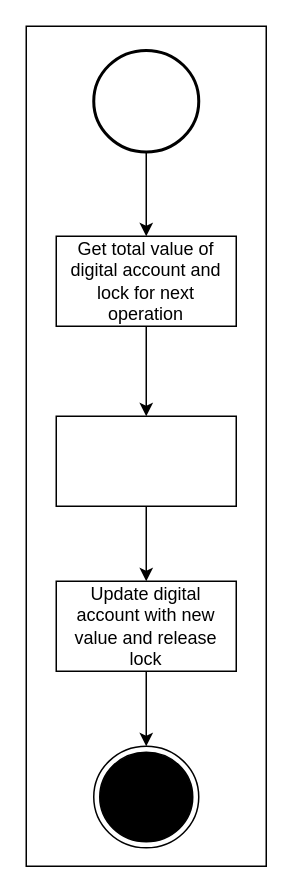
The diagram is 293 pixels wide and 893 high, and some of its shapes have lost their labels. The shapes that lost their labels are listed below. From the top down, each one's centre as x and y in pixels, then its label:
pixel 146 100: Start
pixel 145 460: Add value deposited to digital account total
